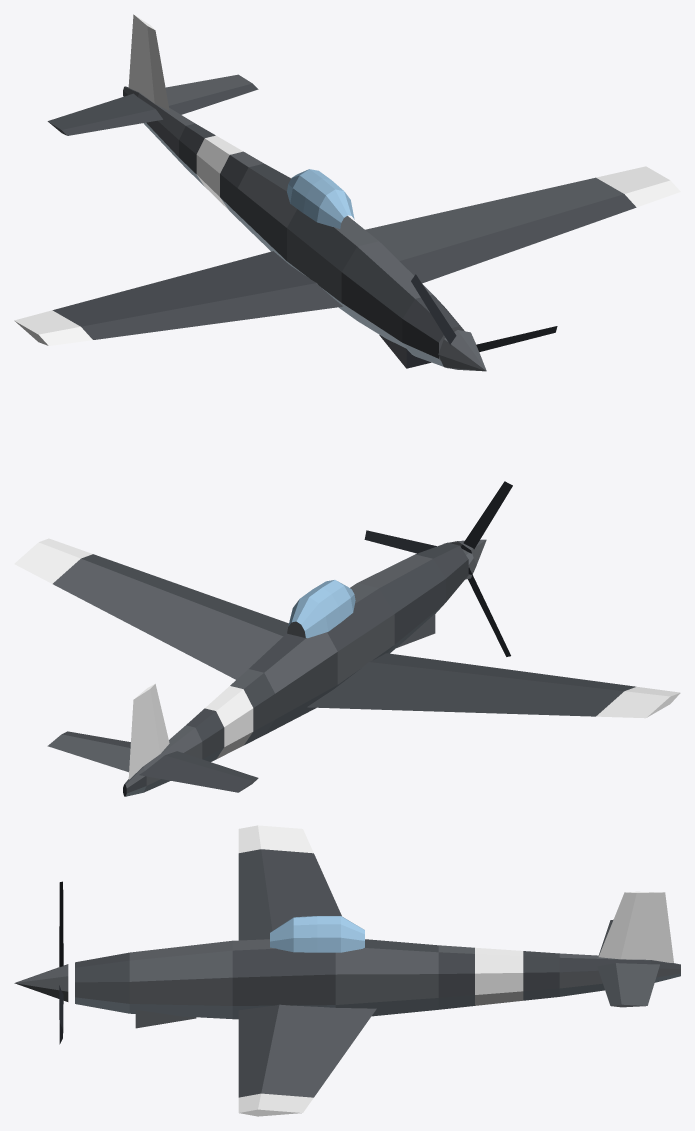
The picture shows the model from 3 angles, top to bottom: view 1: azimuth 30°, elevation 25°; view 2: azimuth 150°, elevation 25°; view 3: azimuth 270°, elevation 25°; orthographic projection. The views are drawn at different scales.
Visible parts, largest first — view 1: body, prop; view 2: body, prop; view 3: body, prop.
Boxes of the visible parts, box(x1,y1,x2,y2) form: body: box(14, 14, 680, 368); prop: box(411, 274, 557, 371); body: box(14, 538, 680, 796); prop: box(364, 481, 512, 656); body: box(75, 825, 680, 1116); prop: box(14, 881, 68, 1044).
Size of the model in its own units: 9.92 by 2.81 by 9.84.
